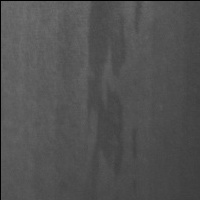inclusion: (85, 2, 130, 176)
